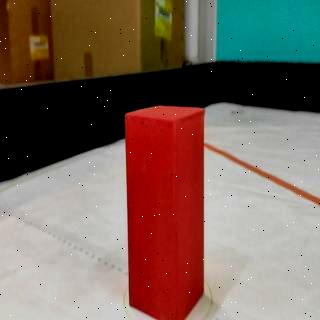redbox: (124, 105, 207, 320)
